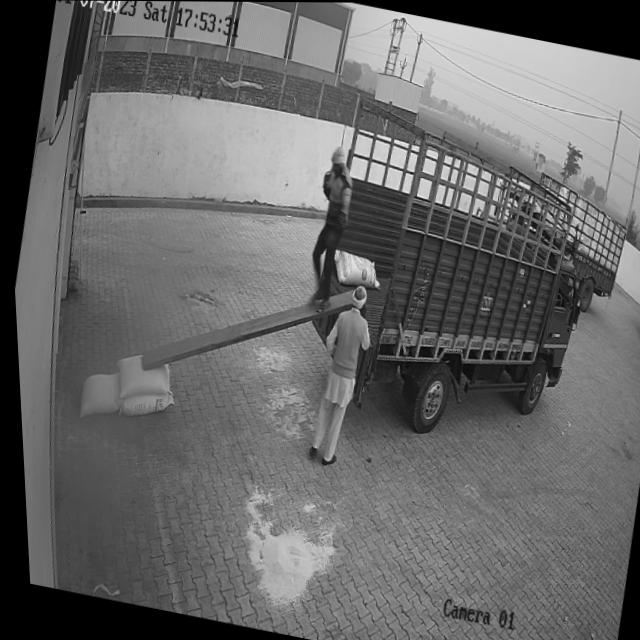sack: (106, 351, 170, 405), (71, 364, 123, 423), (325, 247, 379, 291), (115, 383, 172, 423)
